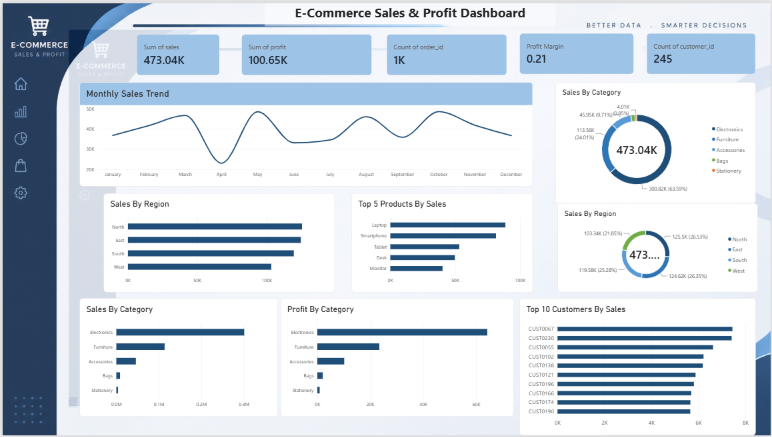

The page's visual inventory and layout, read from the dashboard file:
{"tool":"powerbi","page":{"name":"Page 8","canvas":[1920,1080],"ordinal":0},"visuals":[{"type":"lineChart","title":"Monthly Sales Trend","fields":{"Y":["Sum(public sales.sales)"],"Category":["public sales.order_date.Variation.Date Hierarchy.Month"]},"box":[192.5,197.5,1132.5,260],"z":2000},{"type":"clusteredBarChart","title":"Sales By Category","fields":{"Category":["public sales.category"],"Y":["Sum(public sales.sales)"]},"box":[192.5,737.5,495,295],"z":3000},{"type":"clusteredBarChart","title":"Sales By Region","fields":{"Category":["public sales.region"],"Y":["Sum(public sales.sales)"]},"box":[252.5,475,577.5,247.5],"z":4000},{"type":"clusteredBarChart","title":"Top 5 Products By Sales","fields":{"Category":["public sales.product"],"Y":["Sum(public sales.sales)"]},"box":[872.5,475,452.5,247.5],"z":5000},{"type":"clusteredBarChart","title":"Top 10 Customers By Sales ","fields":{"Category":["public sales.customer_id"],"Y":["Sum(public sales.sales)"]},"box":[1292.5,737.5,590,342.5],"z":6000},{"type":"cardVisual","title":"TOTAL SALES","fields":{"Data":["Sum(public sales.sales)"]},"box":[335,77.5,207.5,102.5],"z":7000},{"type":"cardVisual","title":"TOTAL PROFIT","fields":{"Data":["Sum(public sales.profit)"]},"box":[597.5,77.5,325,102.5],"z":8000},{"type":"cardVisual","fields":{"Data":["CountNonNull(public sales.order_id)"]},"box":[960,77.5,300,102.5],"z":9000},{"type":"cardVisual","fields":{"Data":["Count(public sales.customer_id)"]},"box":[1610,75,272.5,102.5],"z":10000},{"type":"clusteredBarChart","title":"Profit By Category","fields":{"Category":["public sales.category"],"Y":["Sum(public sales.profit)"]},"box":[695,737.5,582.5,295],"z":11000},{"type":"textbox","box":[655,0,727.5,57.5],"z":12000},{"type":"cardVisual","fields":{"Data":["public sales.Profit Margin"]},"box":[1292.5,75,285,102.5],"z":13000},{"type":"donutChart","title":"Sales By Category","fields":{"Category":["public sales.category"],"Y":["Sum(public sales.sales)"]},"box":[1382.5,197.5,500,302.5],"z":13001},{"type":"donutChart","title":"Sales By Region","fields":{"Y":["Sum(public sales.sales)"],"Category":["public sales.region"]},"box":[1387.5,500,500,222],"z":13002}]}

Visuals, with their boxes on the page's 1920x1080 design canvas (x1, y1, x2, y2). These are canvas units, not pixel positions in the 772x437 screenshot, which may show the page scaled, cropped or inside an application window:
"Monthly Sales Trend" lineChart: bbox=[192, 198, 1325, 458]
"Sales By Category" clusteredBarChart: bbox=[192, 738, 688, 1032]
"Sales By Region" clusteredBarChart: bbox=[252, 475, 830, 722]
"Top 5 Products By Sales" clusteredBarChart: bbox=[872, 475, 1325, 722]
"Top 10 Customers By Sales " clusteredBarChart: bbox=[1292, 738, 1882, 1080]
"TOTAL SALES" cardVisual: bbox=[335, 78, 542, 180]
"TOTAL PROFIT" cardVisual: bbox=[598, 78, 922, 180]
cardVisual - CountNonNull(public sales.order_id): bbox=[960, 78, 1260, 180]
cardVisual - Count(public sales.customer_id): bbox=[1610, 75, 1882, 178]
"Profit By Category" clusteredBarChart: bbox=[695, 738, 1278, 1032]
textbox: bbox=[655, 0, 1382, 58]
cardVisual - public sales.Profit Margin: bbox=[1292, 75, 1578, 178]
"Sales By Category" donutChart: bbox=[1382, 198, 1882, 500]
"Sales By Region" donutChart: bbox=[1388, 500, 1888, 722]
